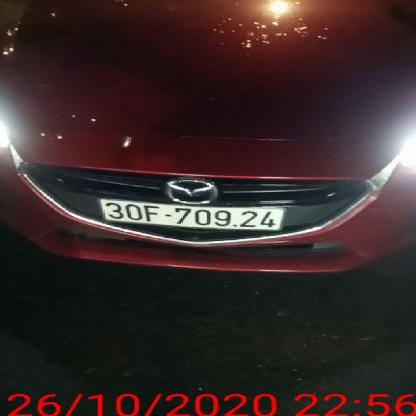biensoxe: (94, 190, 284, 239)
